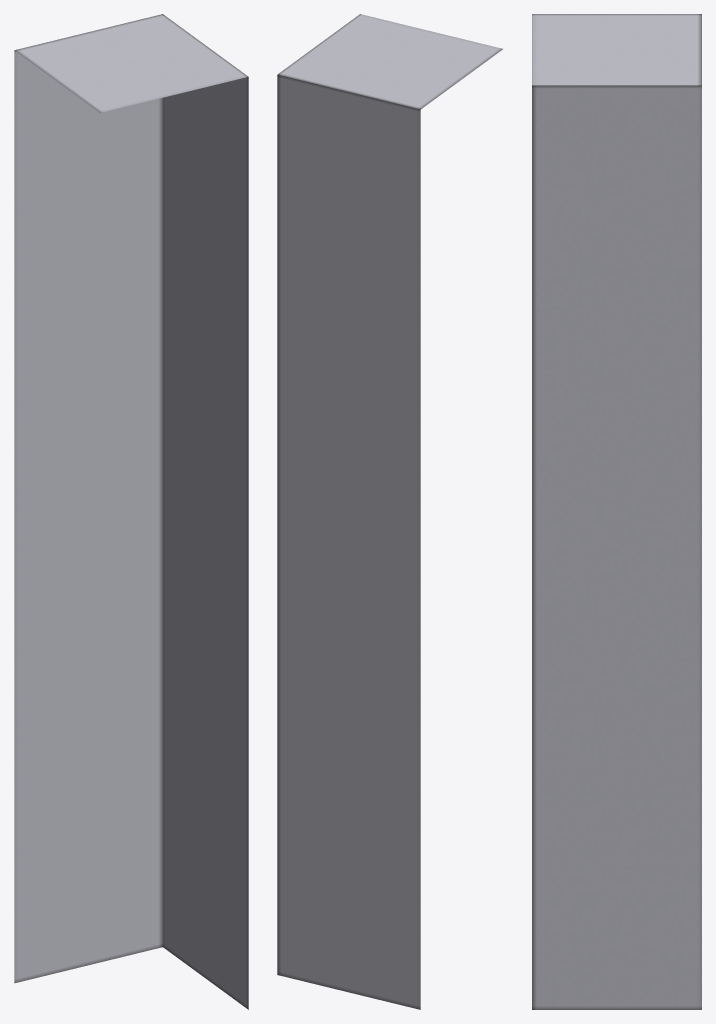
File: Roof_Bar_Vert_01_LP.FBX
3 views of the same model, side by side, from view 1: azimuth 30°, elevation 25°; view 2: azimuth 150°, elevation 25°; view 3: azimuth 270°, elevation 25° (orthographic). The views are drawn at different scales.
Parts seen in each view (by area): view 1: Roof_Bar_Vert_01_LP; view 2: Roof_Bar_Vert_01_LP; view 3: Roof_Bar_Vert_01_LP.
Boxes of the visible parts, x1,y1,x2,y2 form: Roof_Bar_Vert_01_LP: (14,14,248,1009); Roof_Bar_Vert_01_LP: (277,14,502,1009); Roof_Bar_Vert_01_LP: (532,14,701,1009).
Size of the model in its own units: 1 by 6 by 1.
1 material, 1 textured.
